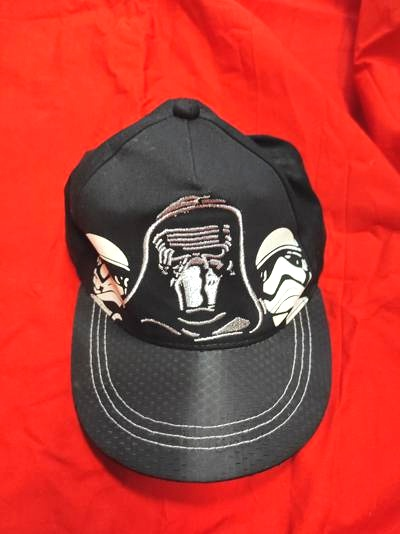Hat: (38, 77, 349, 481)
